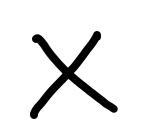mult: (29, 35, 120, 114)
